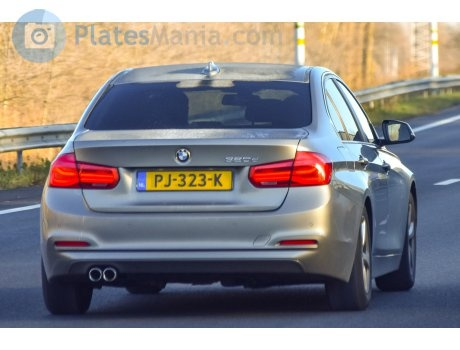number_plate: (132, 169, 235, 193)
